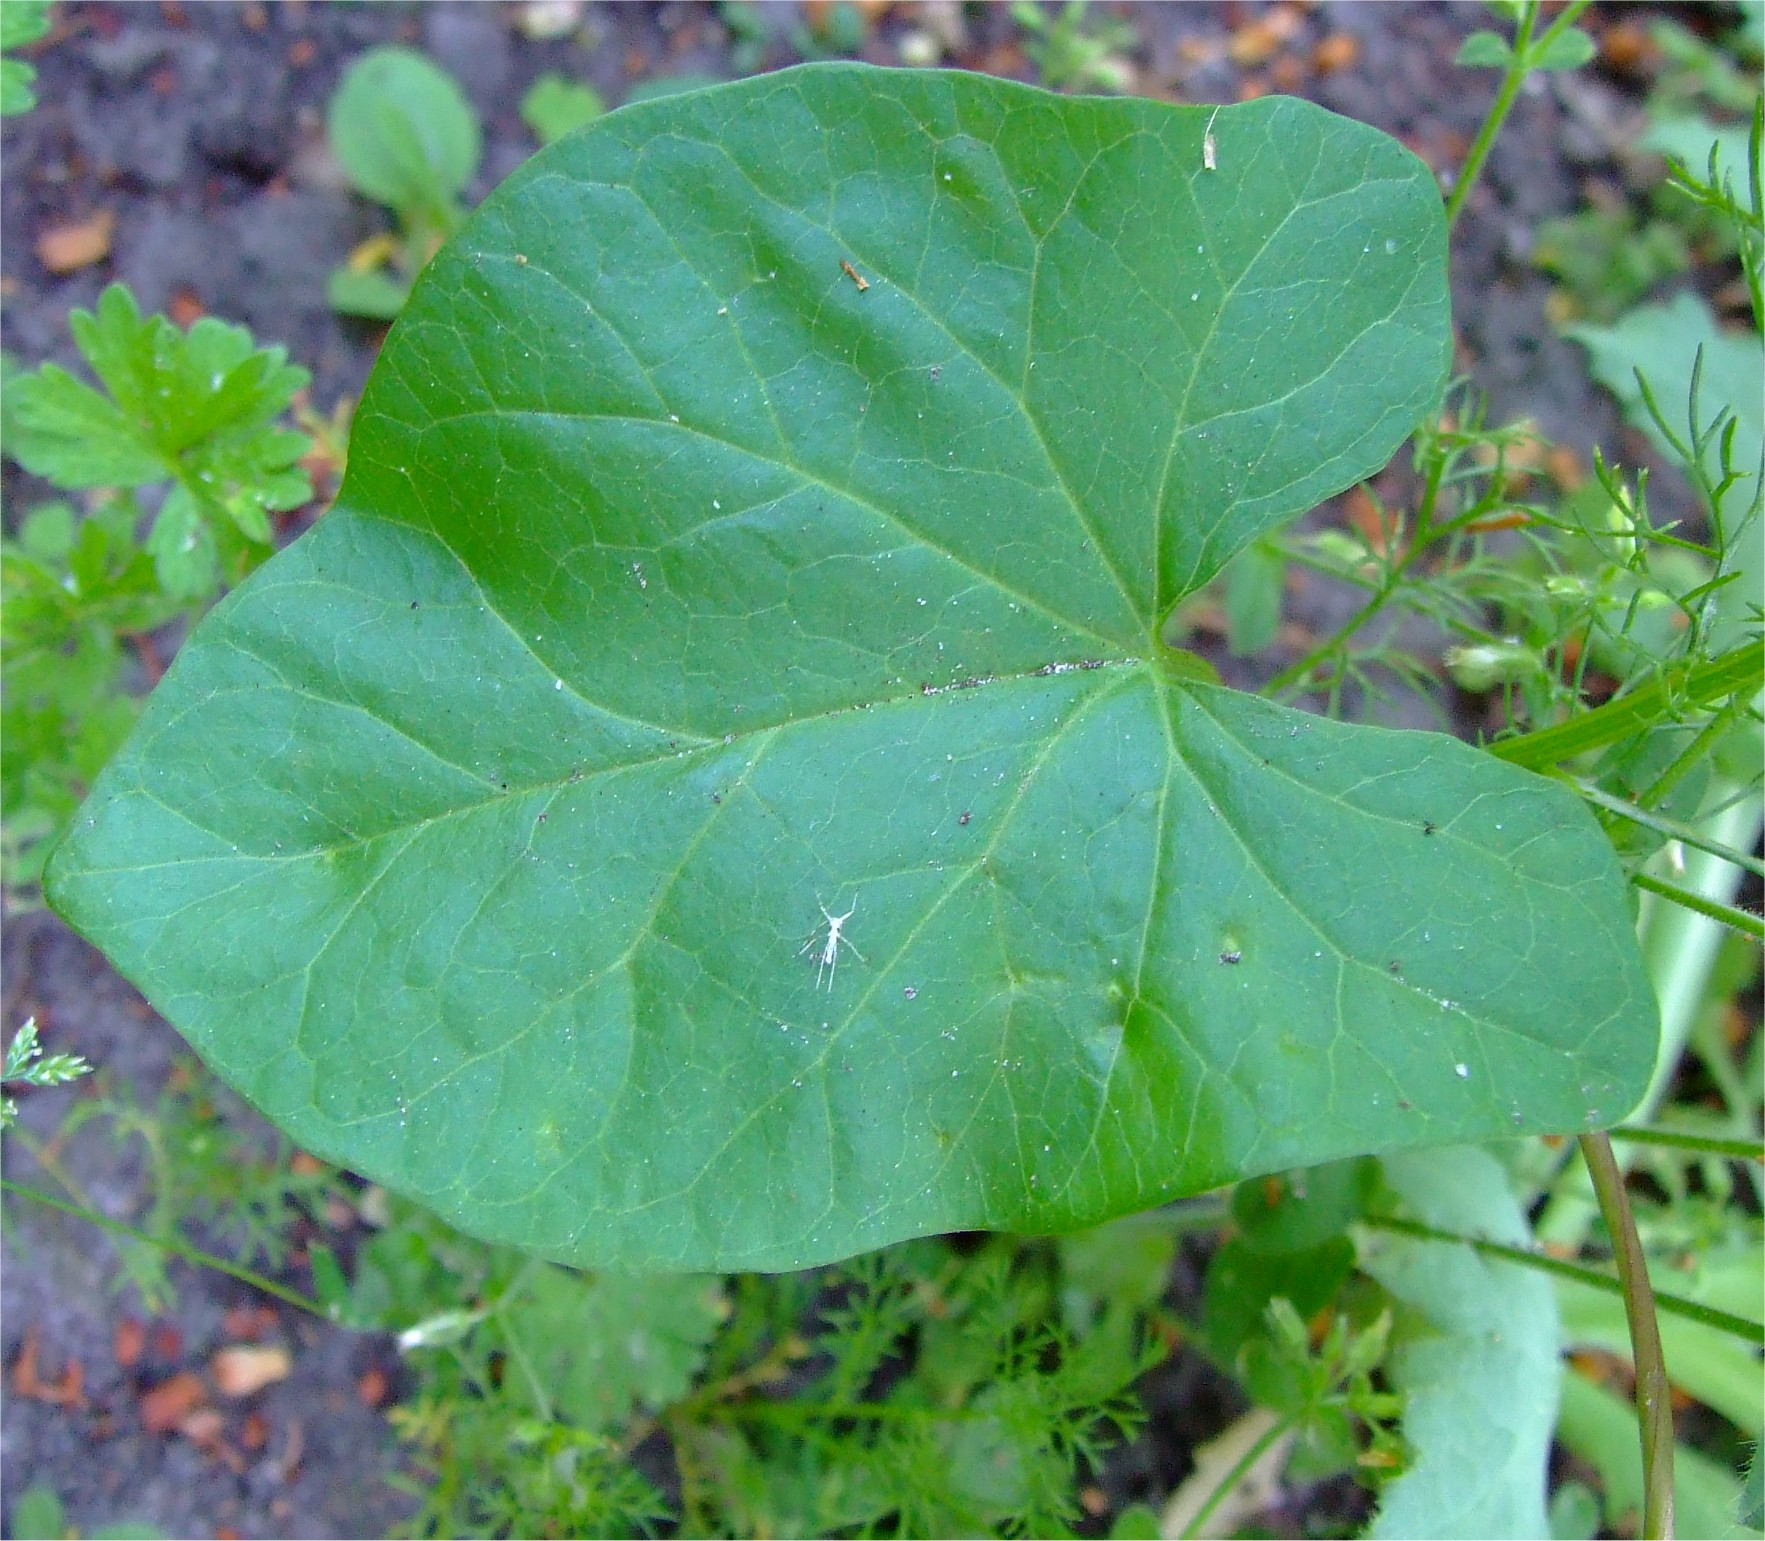haagwinde: (23, 53, 1717, 1317)
